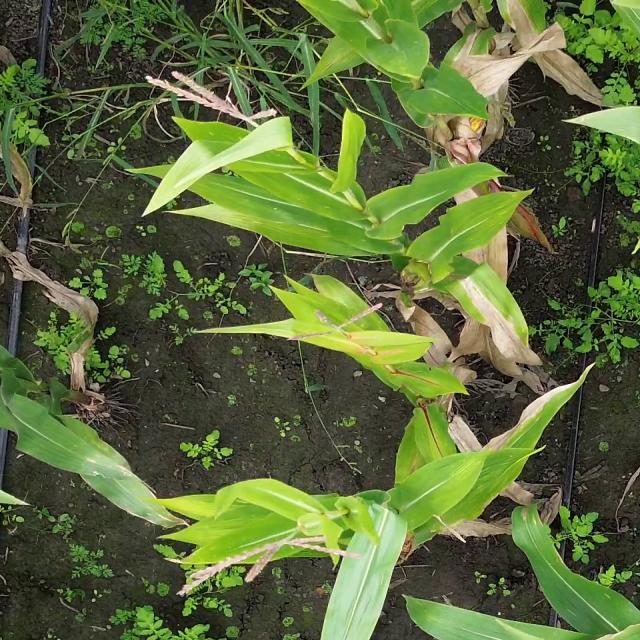gray-leaf-spot: (66, 429, 160, 521), (262, 179, 348, 255)
northern-leaf-blight: (445, 264, 562, 396), (462, 371, 592, 483), (434, 21, 494, 92)
